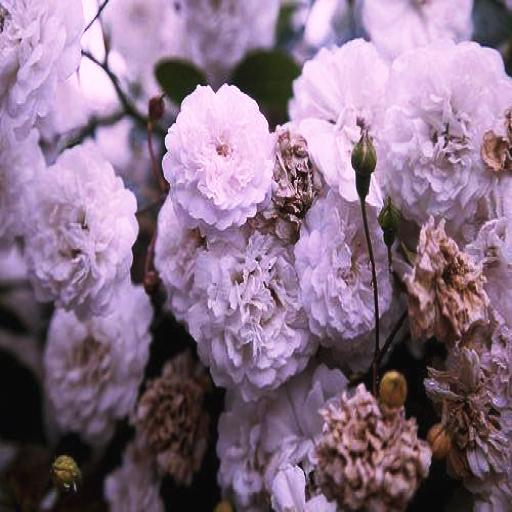rose: (378, 31, 508, 225), (17, 152, 132, 306), (162, 82, 272, 234)
